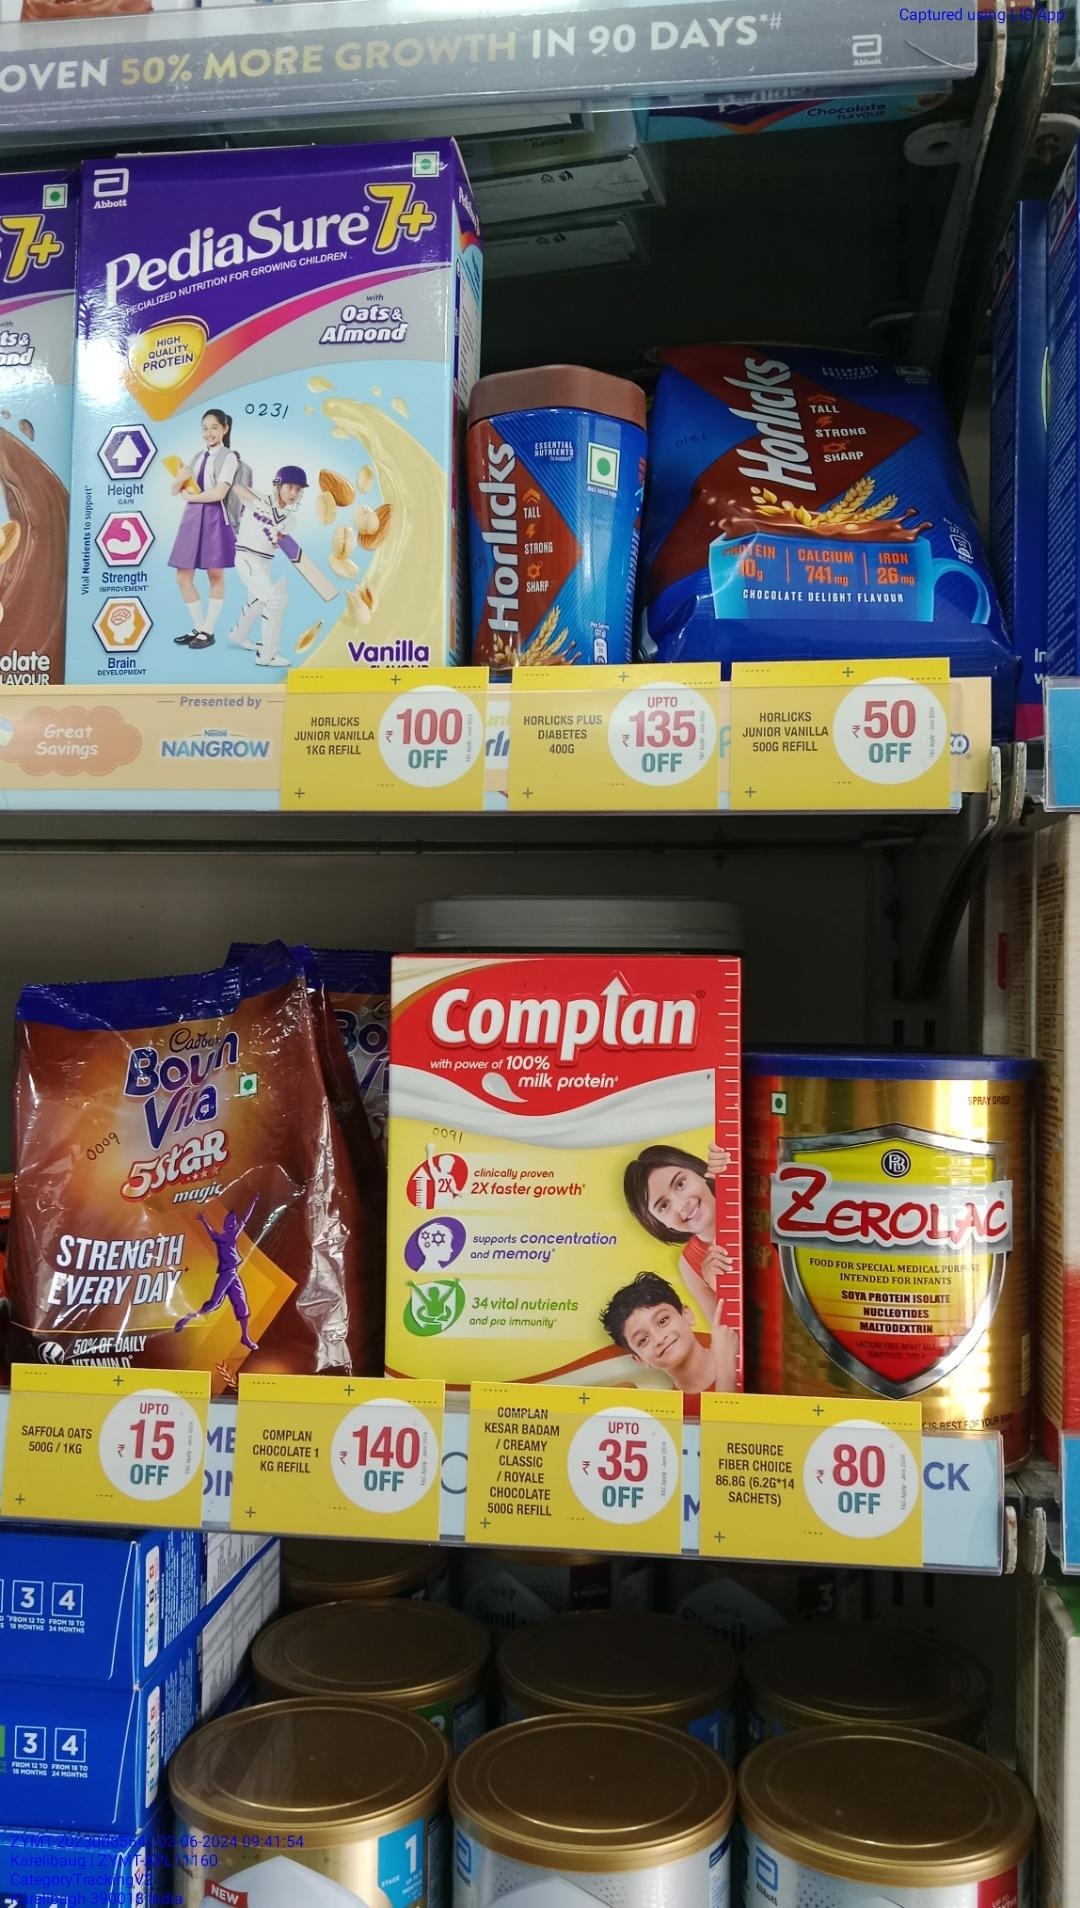BOURN_VITA_FIVE_STAR_MAGIC_500_G_POUCH: (14, 985, 354, 1365)
HORLICK_CHOCOLATE_200_G_JAR: (468, 375, 606, 663)
